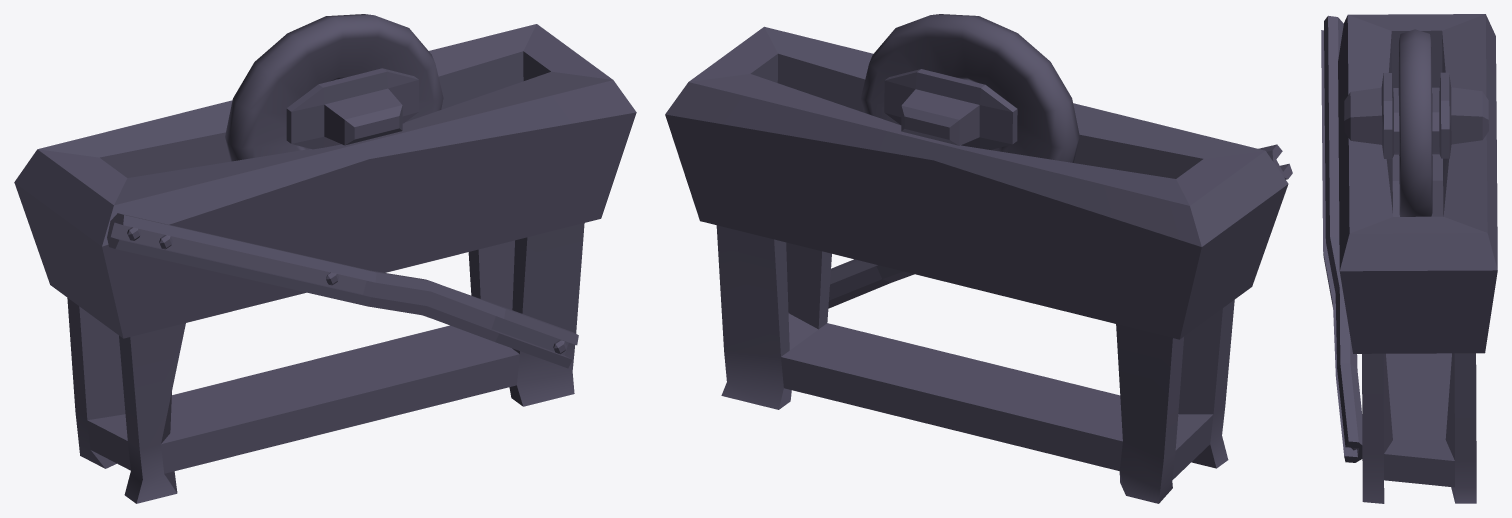
Rendered from Grinder.fbx.
The picture shows the model from 3 angles, left to right: view 1: azimuth 30°, elevation 25°; view 2: azimuth 150°, elevation 25°; view 3: azimuth 270°, elevation 25°; orthographic projection. The views are drawn at different scales.
Parts seen in each view (by area): view 1: polySurface518, polySurface517; view 2: polySurface518, polySurface517; view 3: polySurface518, polySurface517.
Part boxes in pixels (x1,y1,x2,y2): polySurface518: (14,24,636,503); polySurface517: (225,14,443,161); polySurface518: (665,26,1292,503); polySurface517: (860,14,1079,162); polySurface518: (1321,14,1497,503); polySurface517: (1398,29,1432,216).
Bounding box in the file's own units: 194 × 141 × 60.97.
